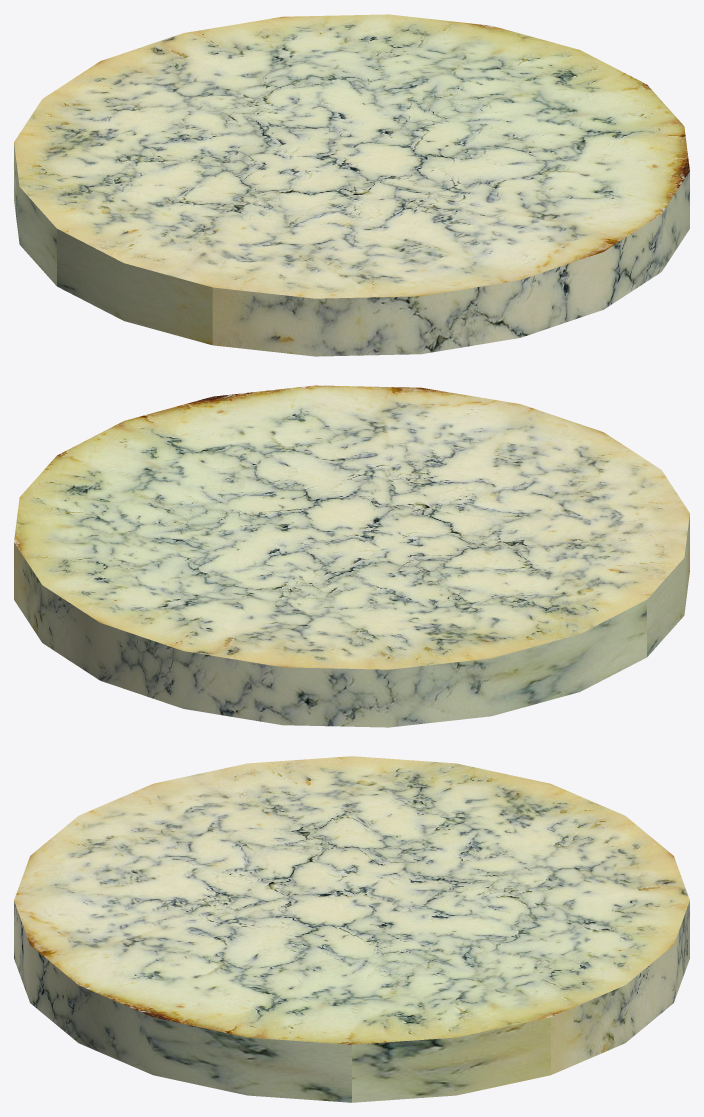
File: middle_bun.fbx
The picture shows the model from 3 angles, top to bottom: view 1: azimuth 30°, elevation 25°; view 2: azimuth 150°, elevation 25°; view 3: azimuth 270°, elevation 25°; orthographic projection.
Visible parts, largest first — view 1: Osy; view 2: Osy; view 3: Osy.
Part boxes in pixels (bbox=[...]): Osy: bbox=[14, 14, 689, 356]; Osy: bbox=[14, 385, 689, 727]; Osy: bbox=[14, 756, 689, 1102].
Bounding box in the file's own units: 407 × 38.17 × 403.
